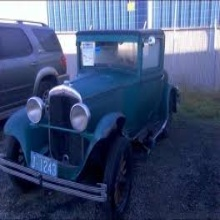no damage: (4, 29, 177, 212), (1, 19, 67, 114)
